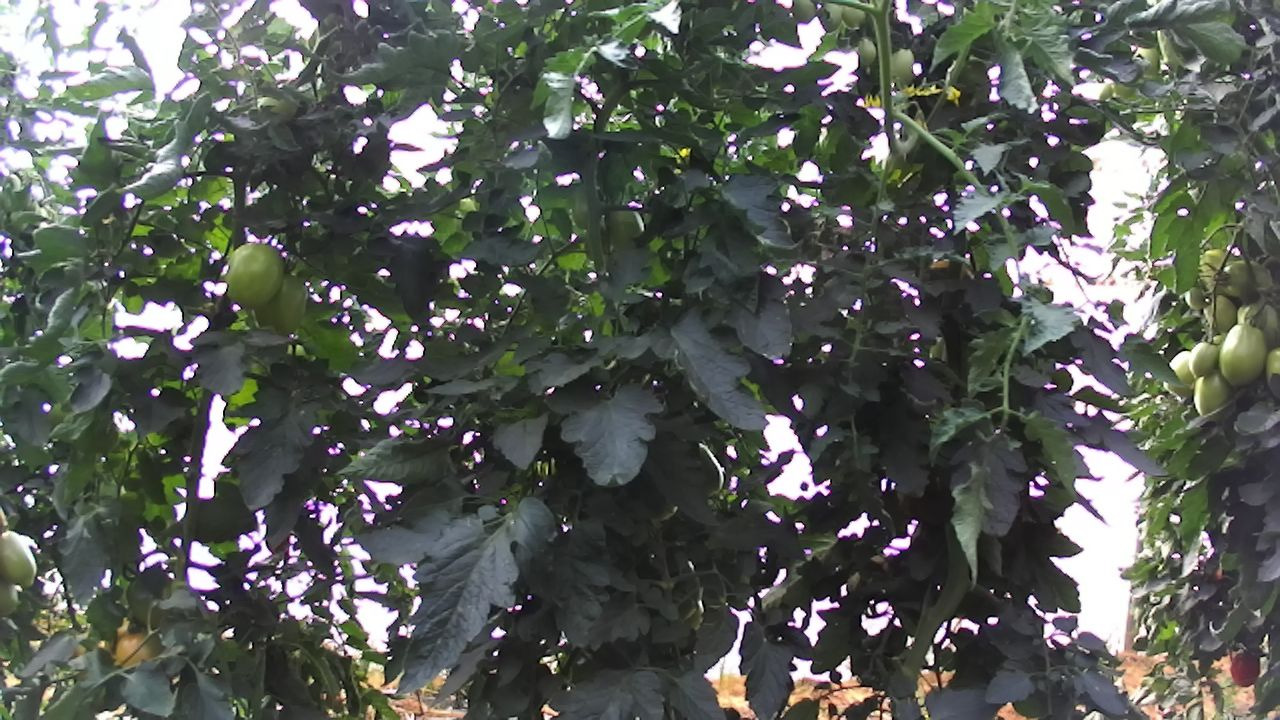tomato: (221, 242, 287, 310), (252, 270, 309, 337), (1216, 321, 1270, 389), (1184, 368, 1236, 420), (0, 528, 40, 591), (1185, 340, 1219, 379), (1229, 648, 1261, 687), (853, 34, 879, 68)
